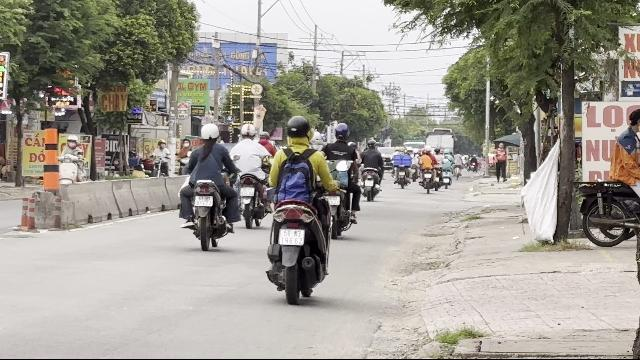helmet: (284, 115, 312, 145), (199, 122, 219, 142), (334, 122, 350, 142)
licenseplate: (279, 228, 305, 246), (195, 196, 213, 206)
motorcyclist: (262, 113, 334, 303), (177, 122, 237, 250), (321, 121, 362, 238)
